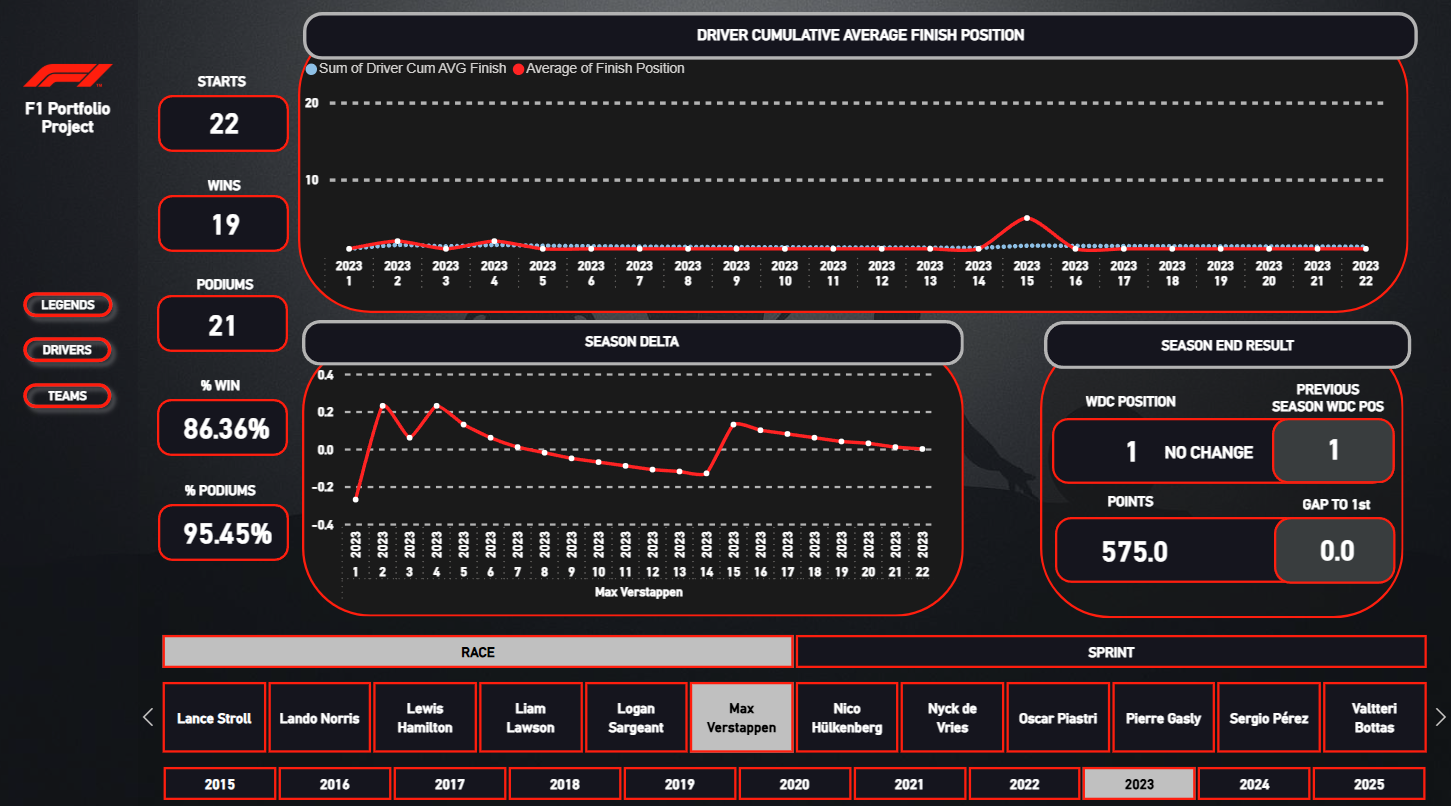

The page's visual inventory and layout, read from the dashboard file:
{"tool":"powerbi","page":{"name":"DRIVERS","canvas":[1280,720],"ordinal":1},"visuals":[{"type":"image","title":"legends-background","box":[0,0,1280,719.5],"z":0},{"type":"shape","box":[0,0,124.6,719.6],"z":0,"group":"g2"},{"type":"shape","box":[265.1,26.2,975.2,255.5],"z":0,"group":"g15"},{"type":"shape","box":[142.1,90.6,115,50],"z":0,"group":"g9"},{"type":"shape","box":[142.1,178.2,115,50],"z":0,"group":"g6"},{"type":"shape","box":[141.3,266.9,115,50],"z":0,"group":"g5"},{"type":"shape","title":"Header Container","box":[920.3,289,322.5,42.3],"z":0,"group":"g18"},{"type":"shape","title":"Main Container","box":[916.8,303.7,319.4,246.1],"z":0,"group":"g10"},{"type":"shape","box":[268.4,308.3,581.2,240.4],"z":0,"group":"g12"},{"type":"textbox","box":[1114.2,336.5,112.5,45.7],"z":0,"group":"g7"},{"type":"textbox","box":[952.4,346.8,95.6,38.9],"z":0,"group":"g11"},{"type":"shape","box":[141,357.4,115,50],"z":0,"group":"g3"},{"type":"shape","title":"Main Holder","box":[927.7,374.5,295.8,57.8],"z":0,"group":"g16"},{"type":"group","id":"g1","title":"% Race Podium","box":[142.1,425.2,114.5,75.6],"z":0,"group":"g4"},{"type":"shape","box":[142.1,450.1,115,50],"z":0,"group":"g1"},{"type":"shape","box":[929.7,461.3,295.8,57.8],"z":0,"group":"g14"},{"type":"slicer","title":"Slicer Year","fields":{"Values":["DIM_year.Year"]},"box":[121.3,673.5,1158.3,38.2],"z":0,"group":"g8"},{"type":"shape","title":"Gap Holder","box":[1122,461.3,106.7,58.6],"z":500,"group":"g17"},{"type":"group","id":"g2","title":"Sidebar_Master","box":[0,0,124.6,719.6],"z":1000},{"type":"lineChart","fields":{"Category":["DIM_round.Round","DIM_year.Year"],"Y":["Sum(v_analytics_race_evolution.Driver Cum AVG Finish)","Avg(v_analytics_race_evolution.Finish Position)"]},"box":[266.2,48.5,958.8,222.7],"z":1000,"group":"g15"},{"type":"textbox","box":[172.1,66,65,26.5],"z":1000,"group":"g9"},{"type":"textbox","box":[180.5,157.1,45.8,34.9],"z":1000,"group":"g6"},{"type":"textbox","box":[171.3,244.6,63.8,26.5],"z":1000,"group":"g5"},{"type":"actionButton","title":"Drivers_btn","box":[14.7,294.3,95.3,39.8],"z":1000,"group":"g2"},{"type":"textbox","title":"text","box":[920.3,297.9,322.5,30],"z":1000,"group":"g18"},{"type":"lineChart","title":"Season Delta Chart","fields":{"Y":["Avg(v_analytics_race_evolution.Driver Finish Season Delta)"],"Category":["DIM_drivers.Driver Name","DIM_round.Round","DIM_year.Year"]},"box":[271.3,321.5,556.6,222.7],"z":1000,"group":"g12"},{"type":"group","id":"g3","title":"% Race Win","box":[141,332.9,115.7,74.5],"z":1000,"group":"g4"},{"type":"textbox","box":[174.6,332.9,48.2,26.5],"z":1000,"group":"g3"},{"type":"shape","title":"Prev WDC Holder","box":[1120.9,374.6,107.8,57.4],"z":1000,"group":"g16"},{"type":"card","fields":{"Values":["Avg(v_report_driver_master.WDC Position)"]},"box":[969.1,379.1,57.8,45.6],"z":1000,"group":"g11"},{"type":"card","fields":{"Values":["v_analytics_race_evolution._Prev Year WDC Pos"]},"box":[1117.7,379.9,116,43.4],"z":1000,"group":"g7"},{"type":"textbox","box":[160.1,425.2,92,25],"z":1000,"group":"g1"},{"type":"textbox","box":[971.2,434.8,58.9,26.7],"z":1000,"group":"g14"},{"type":"slicer","title":"Slicer Driver","fields":{"Values":["DIM_drivers.Driver Name"]},"box":[120.1,598.1,1159.5,76.4],"z":1000,"group":"g8"},{"type":"shape","box":[269.2,17.8,978.9,41.9],"z":2000,"group":"g15"},{"type":"image","box":[23.9,49.6,79.5,48.6],"z":2000,"group":"g2"},{"type":"group","id":"g4","title":"Stat_Box","box":[141,66,116.8,434.8],"z":2000},{"type":"card","fields":{"Values":["v_analytics_race_evolution._Dynamic Race Starts"]},"box":[170.1,91.7,60,46],"z":2000,"group":"g9"},{"type":"card","fields":{"Values":["v_analytics_race_evolution._Dynamic Wins"]},"box":[171.1,180,60,46],"z":2000,"group":"g6"},{"type":"group","id":"g5","title":"Podiums","box":[141.3,244.6,114.5,72.3],"z":2000,"group":"g4"},{"type":"card","fields":{"Values":["v_analytics_race_evolution._Dynamic Podium"]},"box":[169.3,268.9,60,46],"z":2000,"group":"g5"},{"type":"shape","box":[268.4,288.4,581.4,40.1],"z":2000,"group":"g12"},{"type":"card","fields":{"Values":["v_analytics_race_evolution._Win %"]},"box":[157.8,358,89.1,48.2],"z":2000,"group":"g3"},{"type":"card","title":"YoY WDC","fields":{"Values":["v_analytics_race_evolution._WDC YoY Diff"]},"box":[1018.5,383.3,94.9,44.5],"z":2000,"group":"g16"},{"type":"textbox","box":[1142.7,437.7,72.7,27],"z":2000,"group":"g17"},{"type":"card","fields":{"Values":["v_analytics_race_evolution._Podium %"]},"box":[156.4,451.4,94.2,46.1],"z":2000,"group":"g1"},{"type":"card","title":"Points Card","fields":{"Values":["Sum(v_report_driver_master.Official Season Points)"]},"box":[944.2,464.6,111.2,51.2],"z":2000,"group":"g14"},{"type":"slicer","title":"Slicer Session","fields":{"Values":["DIM_session_type.Session Type"]},"box":[120.1,557.2,1160.2,41.6],"z":2000,"group":"g8"},{"type":"textbox","title":"Champion_seasons_txt","box":[267.9,25.8,983.1,30],"z":3000,"group":"g15"},{"type":"textbox","box":[5.8,89,113.8,91.1],"z":3000,"group":"g2"},{"type":"group","id":"g6","title":"Race Wins","box":[142.1,157.1,115.7,71.2],"z":3000,"group":"g4"},{"type":"textbox","title":"World_champions_txt","box":[268.5,294.6,579.6,26.9],"z":3000,"group":"g12"},{"type":"group","id":"g7","title":"Prev year WDC pos","box":[1114.2,336.5,119.6,86.7],"z":3000,"group":"g16"},{"type":"card","fields":{"Values":["v_analytics_race_evolution._Gap to Leader"]},"box":[1121.8,464.7,111.4,50.4],"z":3000,"group":"g17"},{"type":"group","id":"g8","title":"Slicers","box":[120.1,557.2,1159.9,154.6],"z":3000},{"type":"group","id":"g9","title":"Race Starts","box":[142.1,66,115.7,74.5],"z":4000,"group":"g4"},{"type":"group","id":"g10","title":"Overall Season","box":[916.8,289,326,260.7],"z":4000},{"type":"actionButton","title":"Teams_btn","box":[14.7,334.1,95.3,39.8],"z":4000,"group":"g2"},{"type":"group","id":"g11","title":"WDC Position","box":[952.4,346.8,95.6,77.8],"z":4000,"group":"g16"},{"type":"actionButton","title":"Legends_btn","box":[14.7,254.5,96.4,39.8],"z":5000,"group":"g2"},{"type":"group","id":"g12","title":"Season Delta","box":[268.4,288.4,581.4,260.2],"z":6000},{"type":"group","id":"g13","title":"Points","box":[929.7,434.8,303.4,85.1],"z":6001,"group":"g10"},{"type":"group","id":"g14","title":"Current Points","box":[929.7,434.8,295.8,84.3],"z":6001,"group":"g13"},{"type":"group","id":"g15","title":"Driver Cum AVG","box":[265.1,17.8,985.9,264],"z":6500},{"type":"group","id":"g16","title":"WDC","box":[927.7,336.5,306.1,95.8],"z":6501,"group":"g10"},{"type":"group","id":"g17","title":"Gap Points","box":[1088.8,437.7,144.4,82.2],"z":6501,"group":"g13"},{"type":"group","id":"g18","title":"Header","box":[920.3,289,322.5,42.3],"z":7001,"group":"g10"}]}

Visuals, with their boxes in screenshot pixels (x1, y1, x2, y2), scaled from the page's 1280x720 canvas onto the 1451x806 screenshot:
"legends-background" image: <box>0,0,1450,805</box>
shape: <box>0,0,141,805</box>
shape: <box>301,29,1406,315</box>
shape: <box>161,101,291,157</box>
shape: <box>161,199,291,255</box>
shape: <box>160,299,291,355</box>
"Header Container" shape: <box>1043,324,1409,371</box>
"Main Container" shape: <box>1039,340,1401,615</box>
shape: <box>304,345,963,614</box>
textbox: <box>1263,377,1391,428</box>
textbox: <box>1080,388,1188,432</box>
shape: <box>160,400,290,456</box>
"Main Holder" shape: <box>1052,419,1387,484</box>
"% Race Podium" group: <box>161,476,291,561</box>
shape: <box>161,504,291,560</box>
shape: <box>1054,516,1389,581</box>
"Slicer Year" slicer: <box>138,754,1450,797</box>
"Gap Holder" shape: <box>1272,516,1393,582</box>
"Sidebar_Master" group: <box>0,0,141,805</box>
lineChart - DIM_round.Round x DIM_year.Year: <box>302,54,1389,304</box>
textbox: <box>195,74,269,104</box>
textbox: <box>205,176,257,215</box>
textbox: <box>194,274,267,303</box>
"Drivers_btn" actionButton: <box>17,329,125,374</box>
"text" textbox: <box>1043,333,1409,367</box>
"Season Delta Chart" lineChart: <box>308,360,939,609</box>
"% Race Win" group: <box>160,373,291,456</box>
textbox: <box>198,373,253,402</box>
"Prev WDC Holder" shape: <box>1271,419,1393,484</box>
card - Avg(v_report_driver_master.WDC Position): <box>1099,424,1164,475</box>
card - v_analytics_race_evolution._Prev Year WDC Pos: <box>1267,425,1399,474</box>
textbox: <box>181,476,286,504</box>
textbox: <box>1101,487,1168,517</box>
"Slicer Driver" slicer: <box>136,670,1450,755</box>
shape: <box>305,20,1415,67</box>
image: <box>27,56,117,110</box>
"Stat_Box" group: <box>160,74,292,561</box>
card - v_analytics_race_evolution._Dynamic Race Starts: <box>193,103,261,154</box>
card - v_analytics_race_evolution._Dynamic Wins: <box>194,202,262,253</box>
"Podiums" group: <box>160,274,290,355</box>
card - v_analytics_race_evolution._Dynamic Podium: <box>192,301,260,353</box>
shape: <box>304,323,963,368</box>
card - v_analytics_race_evolution._Win %: <box>179,401,280,455</box>
"YoY WDC" card: <box>1155,429,1262,479</box>
textbox: <box>1295,490,1378,520</box>
card - v_analytics_race_evolution._Podium %: <box>177,505,284,557</box>
"Points Card" card: <box>1070,520,1196,577</box>
"Slicer Session" slicer: <box>136,624,1450,670</box>
"Champion_seasons_txt" textbox: <box>304,29,1418,62</box>
textbox: <box>7,100,136,202</box>
"Race Wins" group: <box>161,176,292,256</box>
"World_champions_txt" textbox: <box>304,330,961,360</box>
"Prev year WDC pos" group: <box>1263,377,1399,474</box>
card - v_analytics_race_evolution._Gap to Leader: <box>1272,520,1398,577</box>
"Slicers" group: <box>136,624,1450,797</box>
"Race Starts" group: <box>161,74,292,157</box>
"Overall Season" group: <box>1039,324,1409,615</box>
"Teams_btn" actionButton: <box>17,374,125,419</box>
"WDC Position" group: <box>1080,388,1188,475</box>
"Legends_btn" actionButton: <box>17,285,126,329</box>
"Season Delta" group: <box>304,323,963,614</box>
"Points" group: <box>1054,487,1398,582</box>
"Current Points" group: <box>1054,487,1389,581</box>
"Driver Cum AVG" group: <box>301,20,1418,315</box>
"WDC" group: <box>1052,377,1399,484</box>
"Gap Points" group: <box>1234,490,1398,582</box>
"Header" group: <box>1043,324,1409,371</box>
